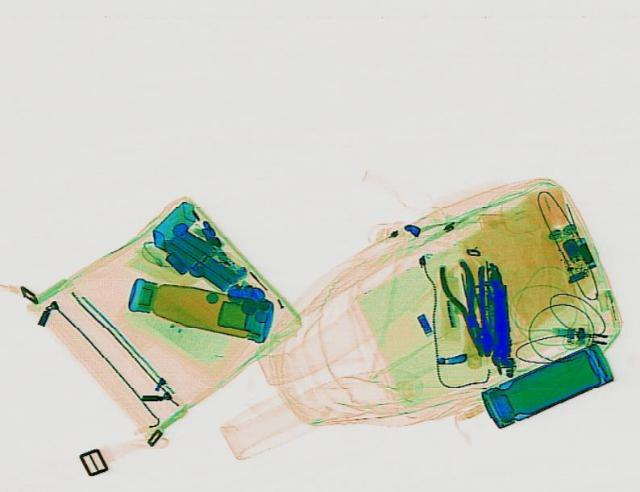Pliers: (434, 256, 498, 353)
